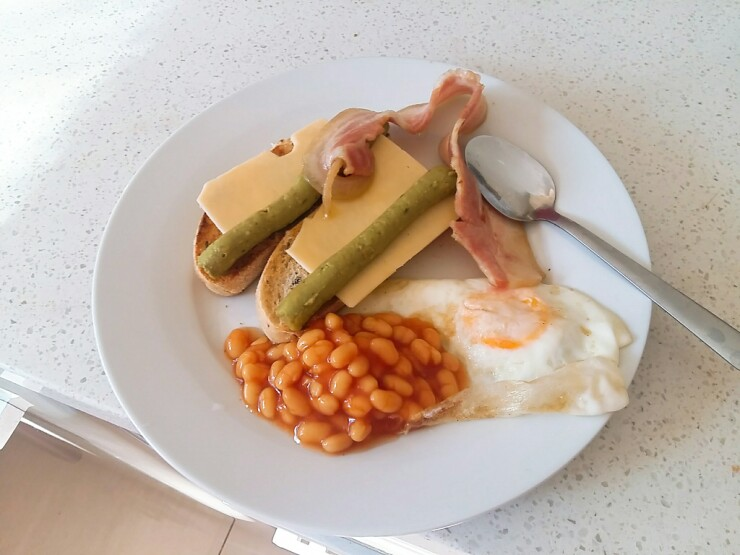boiled peas: (225, 327, 453, 442)
fried egg: (395, 285, 621, 413)
